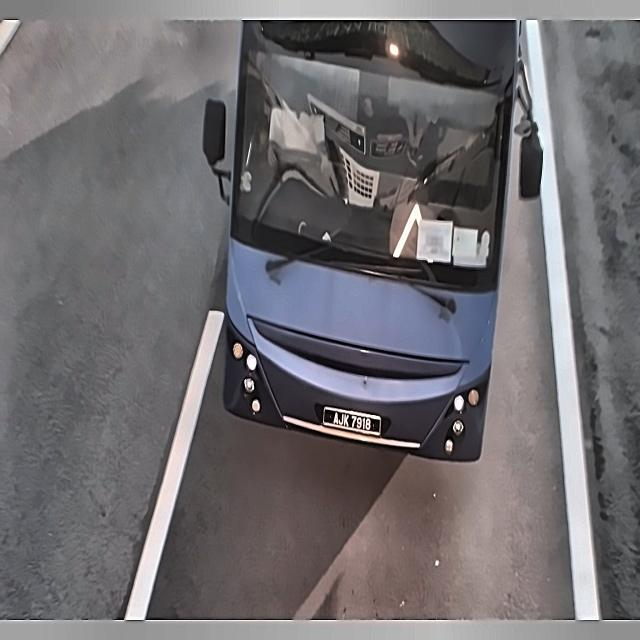car: (317, 402, 386, 438)
